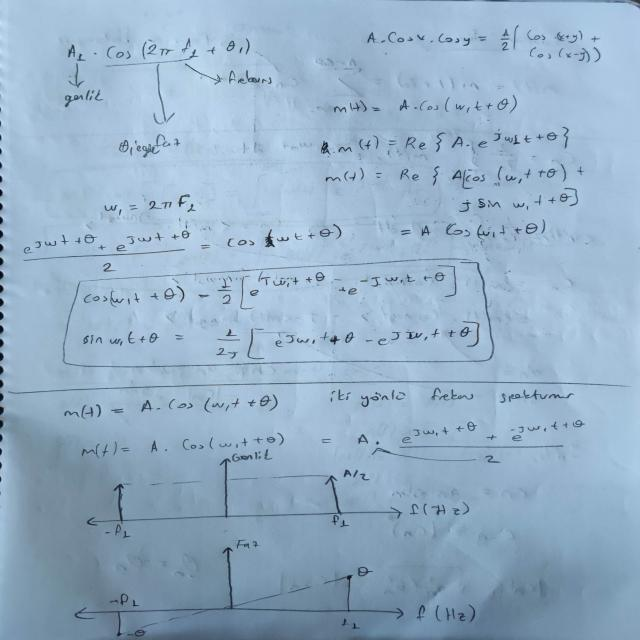image: (61, 533, 481, 640), (70, 451, 479, 530)
math: (78, 263, 461, 320), (77, 322, 482, 363), (352, 415, 589, 466), (365, 23, 606, 69), (312, 122, 574, 158), (16, 226, 195, 273), (56, 31, 269, 65), (77, 428, 292, 460), (312, 162, 568, 187), (59, 393, 284, 420), (326, 95, 516, 116), (445, 188, 580, 217), (415, 218, 550, 244), (225, 223, 348, 248), (97, 192, 201, 218)
